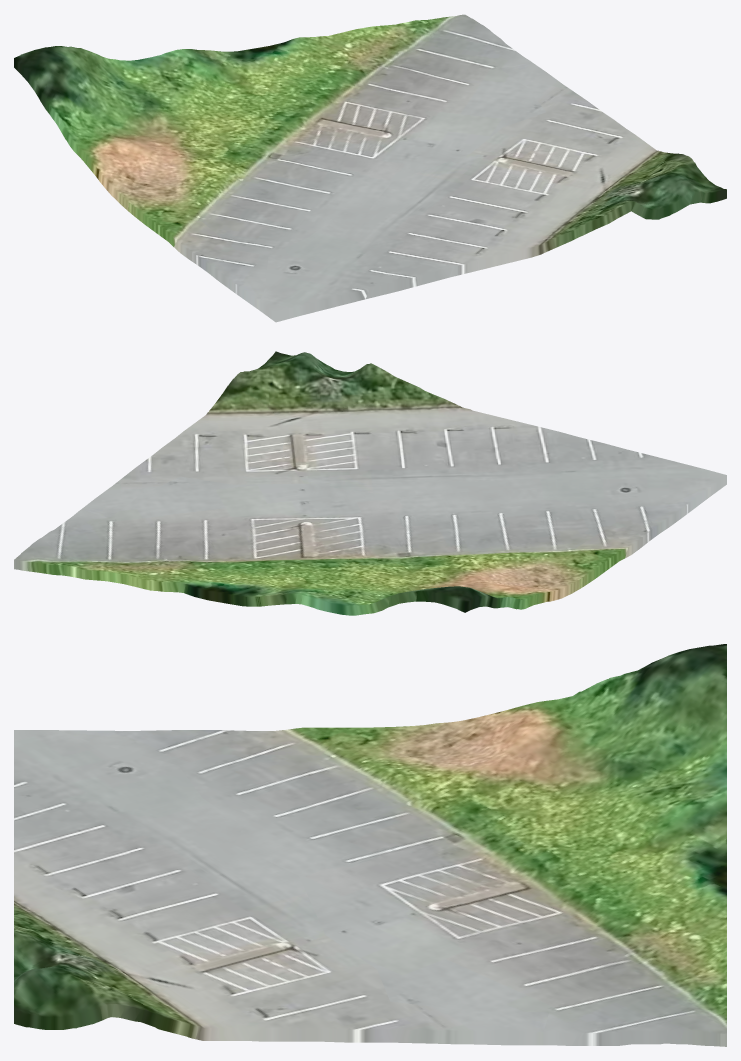
File: z20-167566-405176-h0-yup-uvflip-v3-world.glb
3 views of the same model, one above another, from view 1: azimuth 30°, elevation 25°; view 2: azimuth 150°, elevation 25°; view 3: azimuth 270°, elevation 25° (orthographic). The views are drawn at different scales.
Bounding box in the file's own units: 30.16 × 5.08 × 30.32.
Materials: 1 (1 with a texture image).
